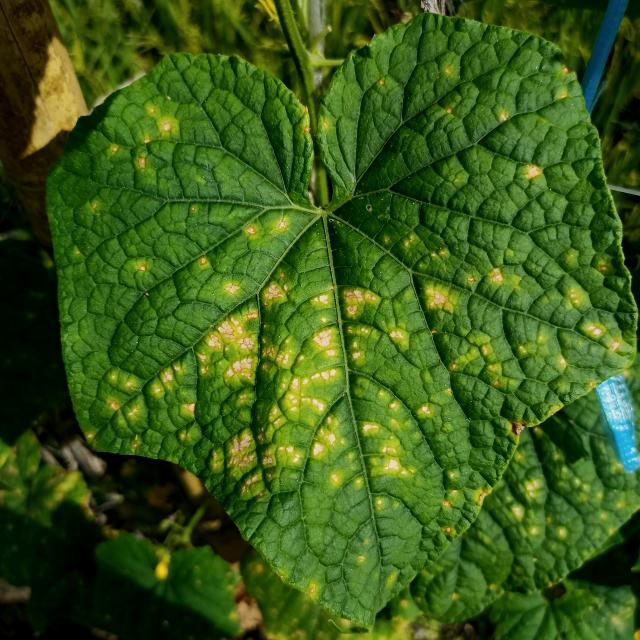disease_cucumber: (87, 54, 617, 555)
